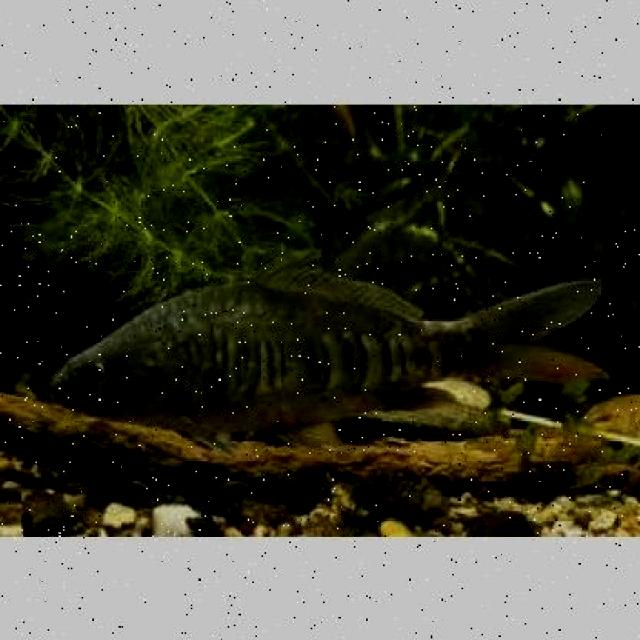ikan-mas: (42, 252, 604, 434)
